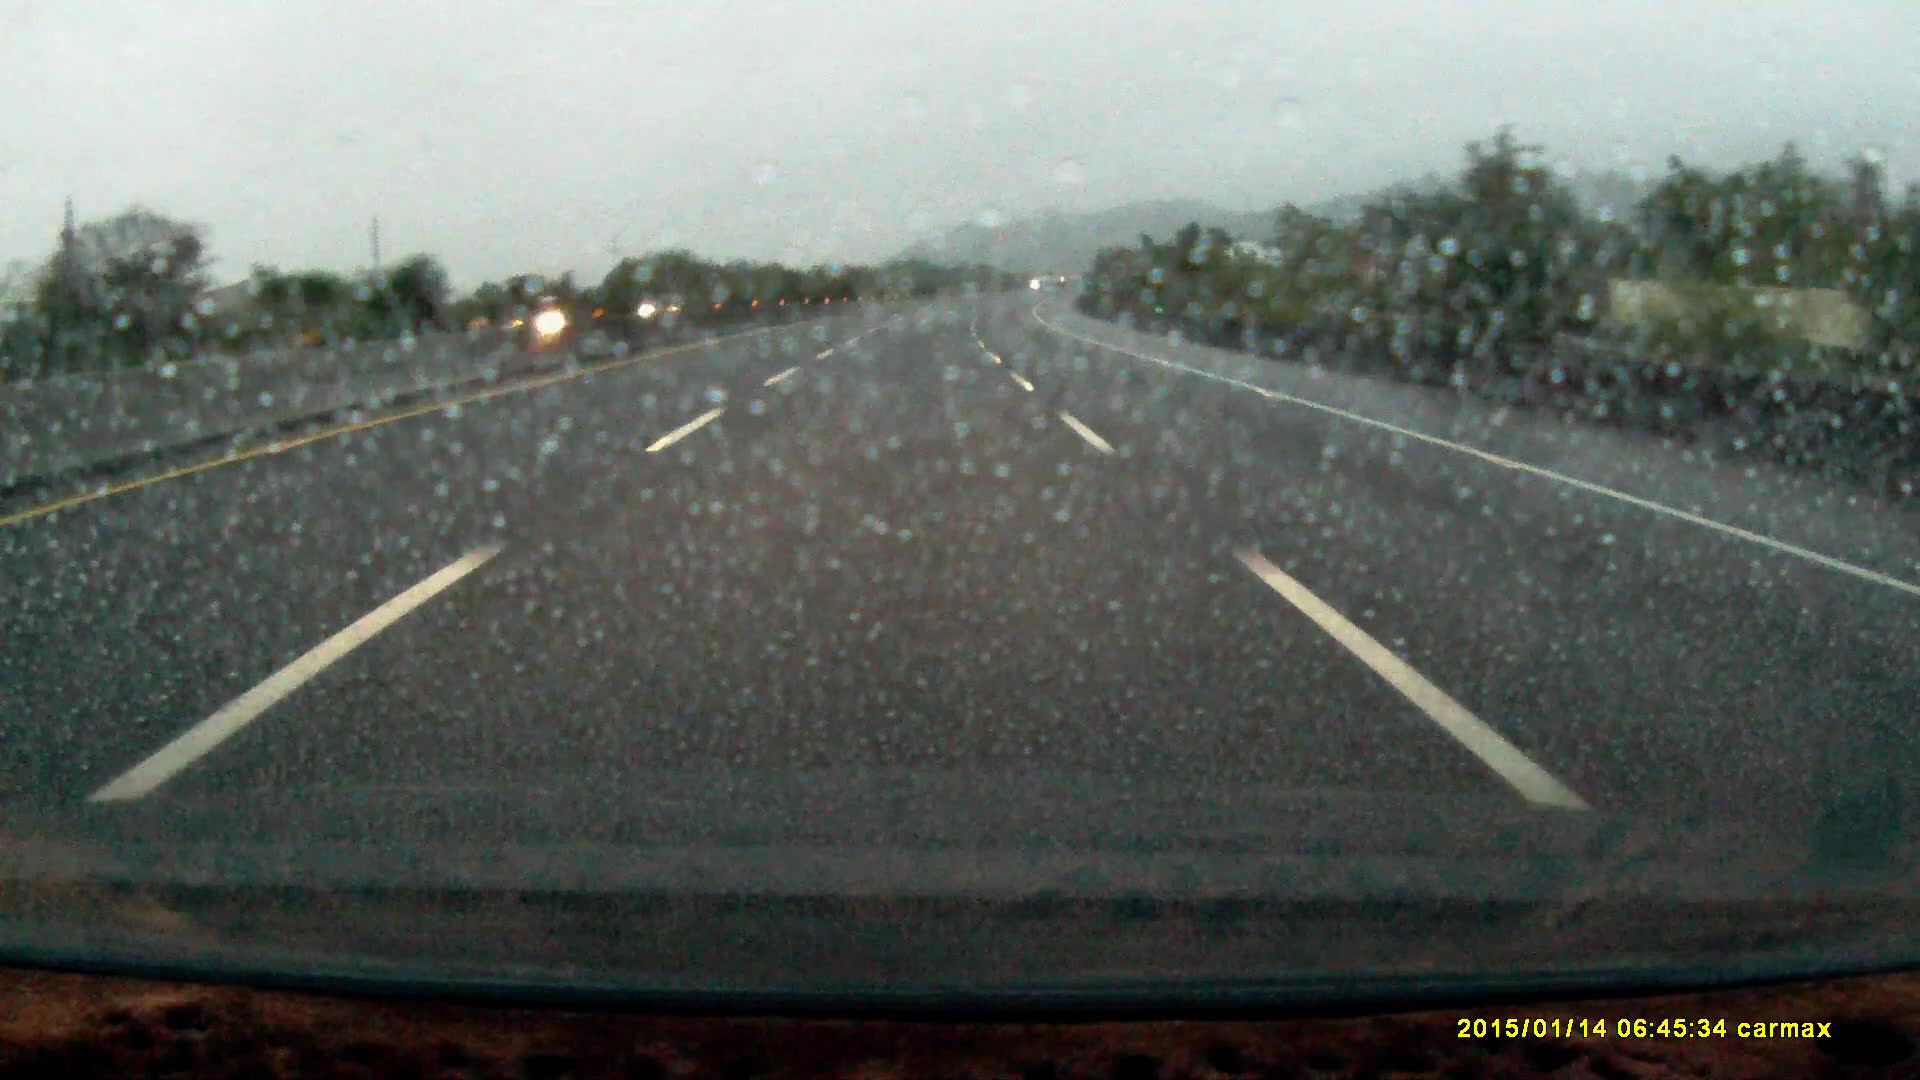vehicle: (506, 299, 617, 335), (638, 291, 708, 322)
